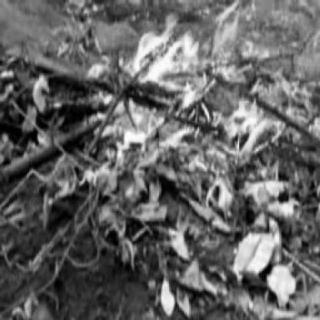Fire: (84, 0, 292, 189)
